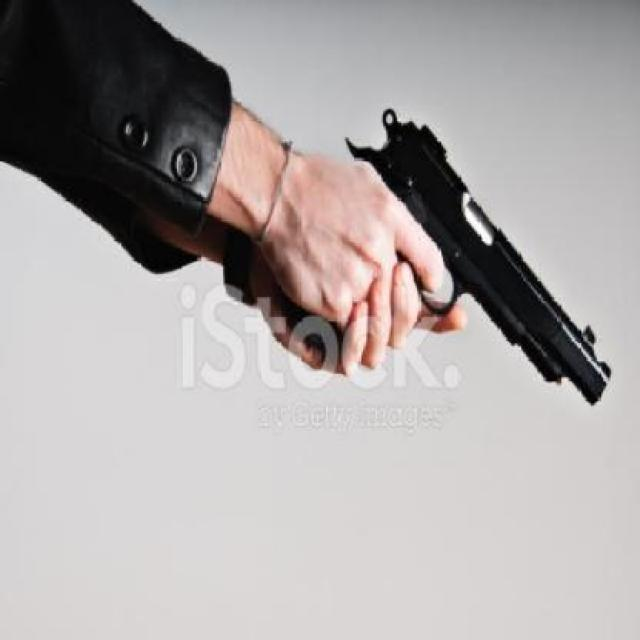gun: (297, 102, 617, 424)
